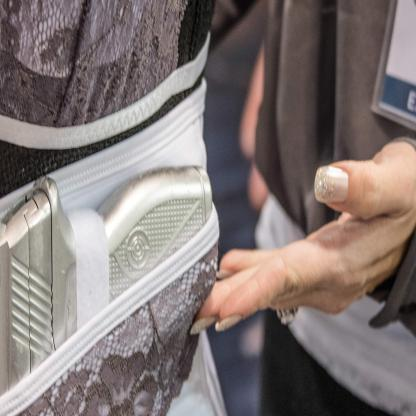gun: (0, 112, 220, 416)
